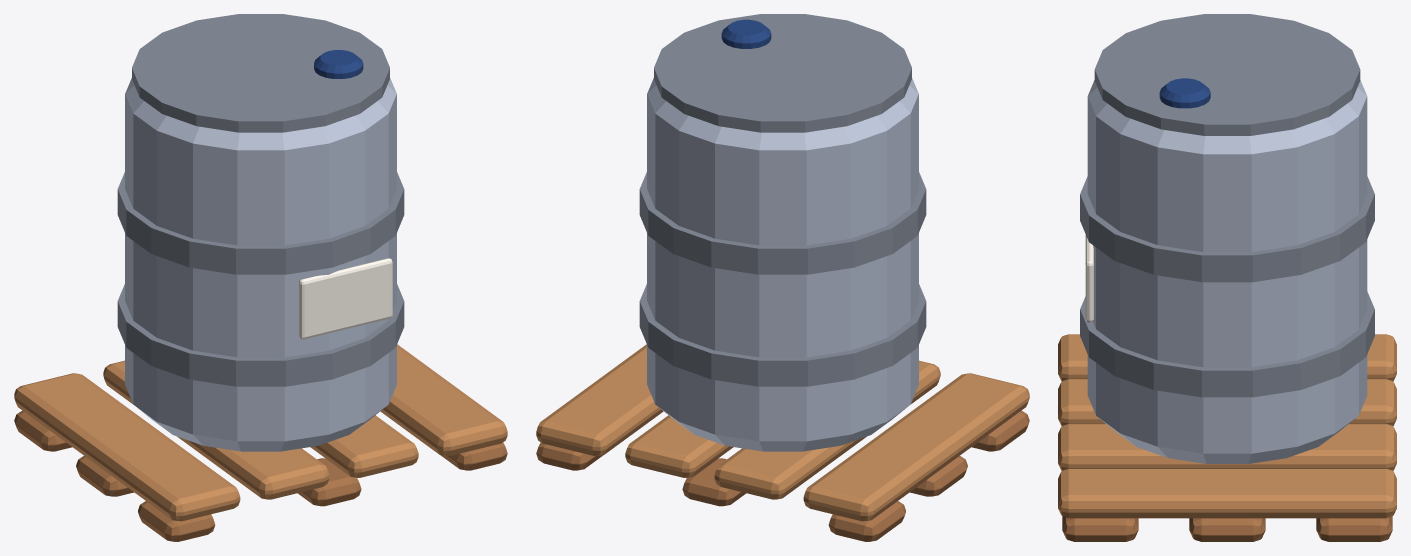
File: drum.glb
3 renders of one model, left to right at view 1: azimuth 30°, elevation 25°; view 2: azimuth 150°, elevation 25°; view 3: azimuth 270°, elevation 25°, orthographic. The views are drawn at different scales.
Parts seen in each view (by area): view 1: drum; view 2: drum; view 3: drum.
Part boxes in pixels (x1=…): drum: x1=14, y1=14, x2=507, y2=541; drum: x1=536, y1=14, x2=1029, y2=541; drum: x1=1058, y1=14, x2=1396, y2=541.
Bounding box in the file's own units: 0.96 × 1.05 × 0.8.
